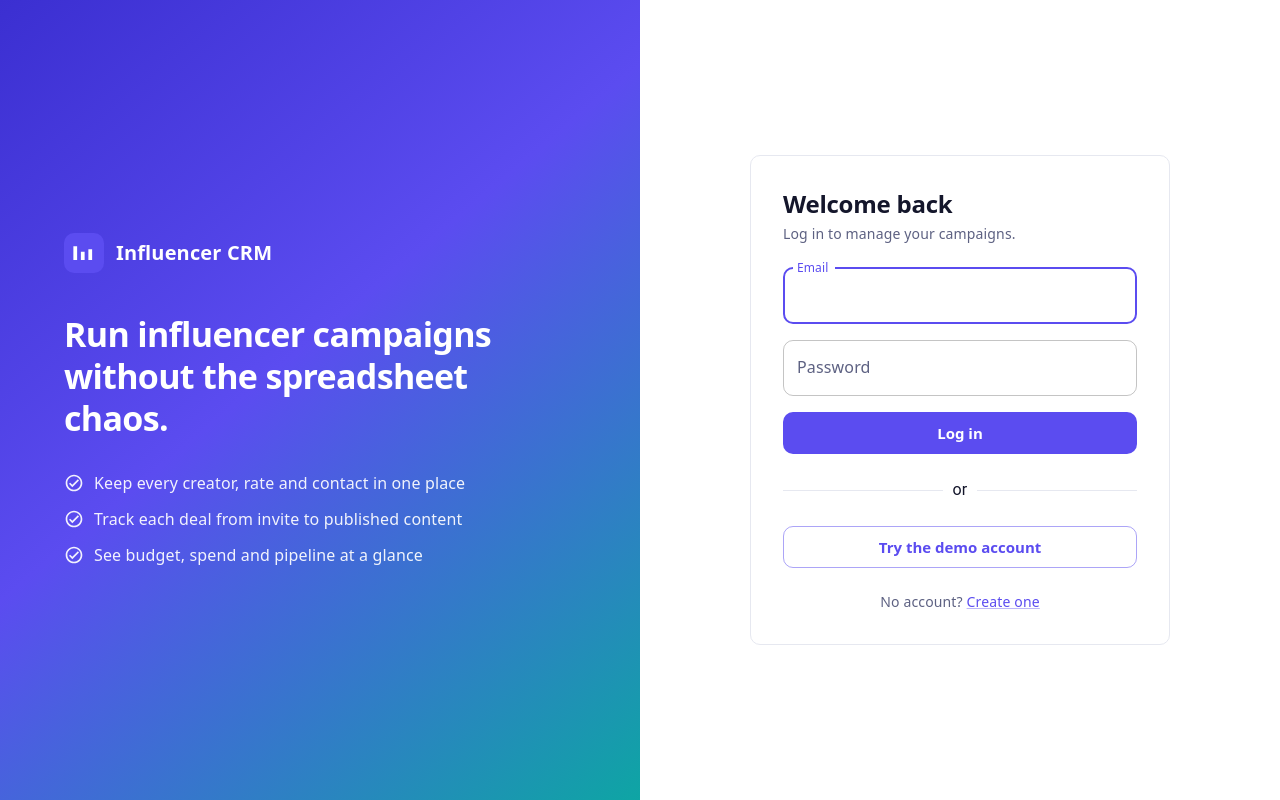
LoginPage › shows the server error message
Type "anna@test.dev" into the field labelled "Email". click: (960, 296)
box: [783, 268, 1137, 324]
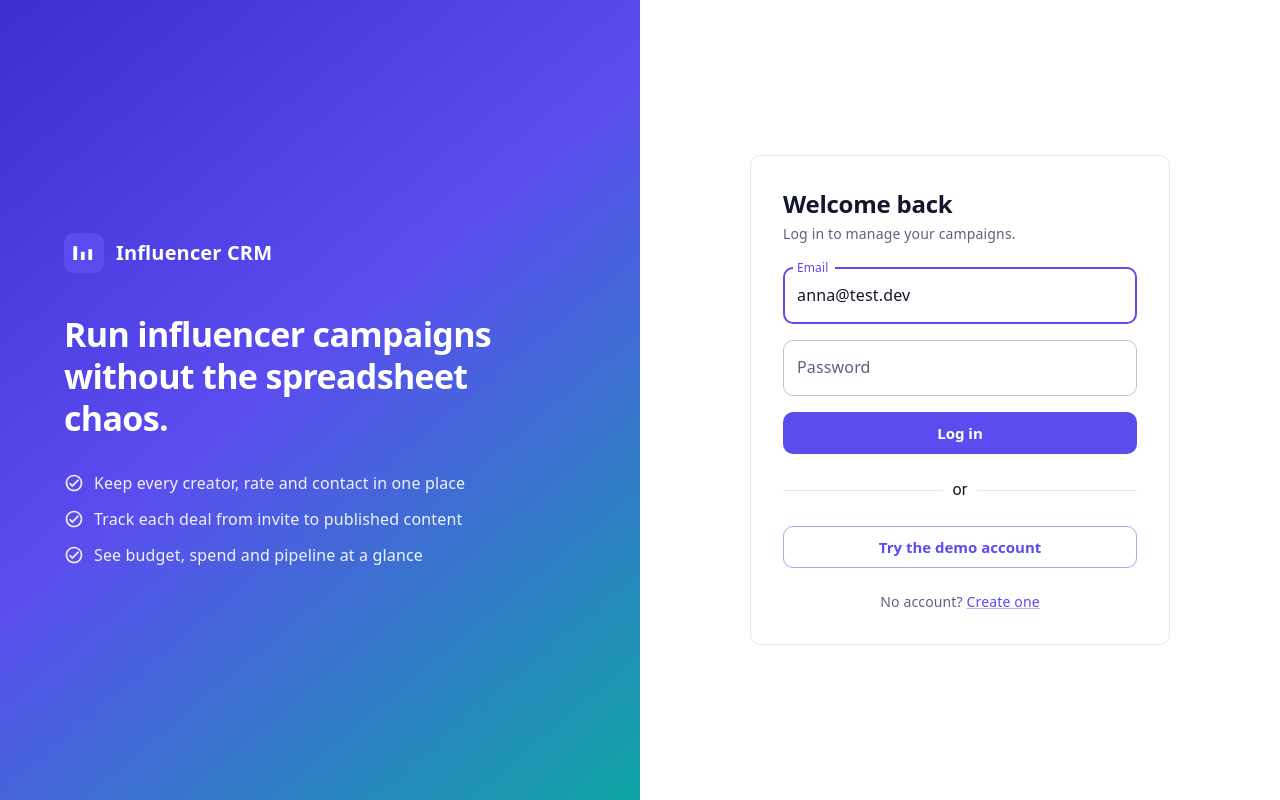
Type "wrong-password" into the password field labelled "Password". click: (960, 368)
box: [783, 340, 1137, 396]
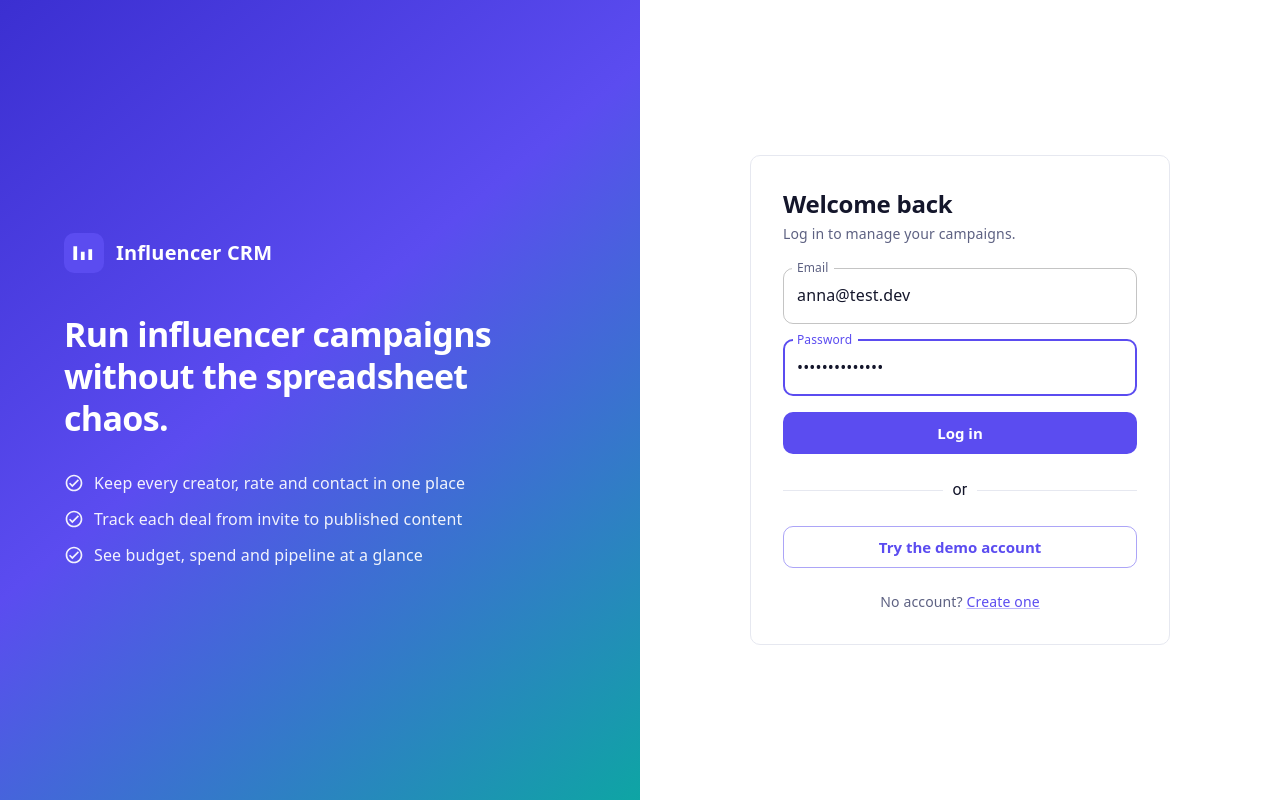
Click the button "Log in". click: (960, 433)
box: [783, 412, 1137, 454]
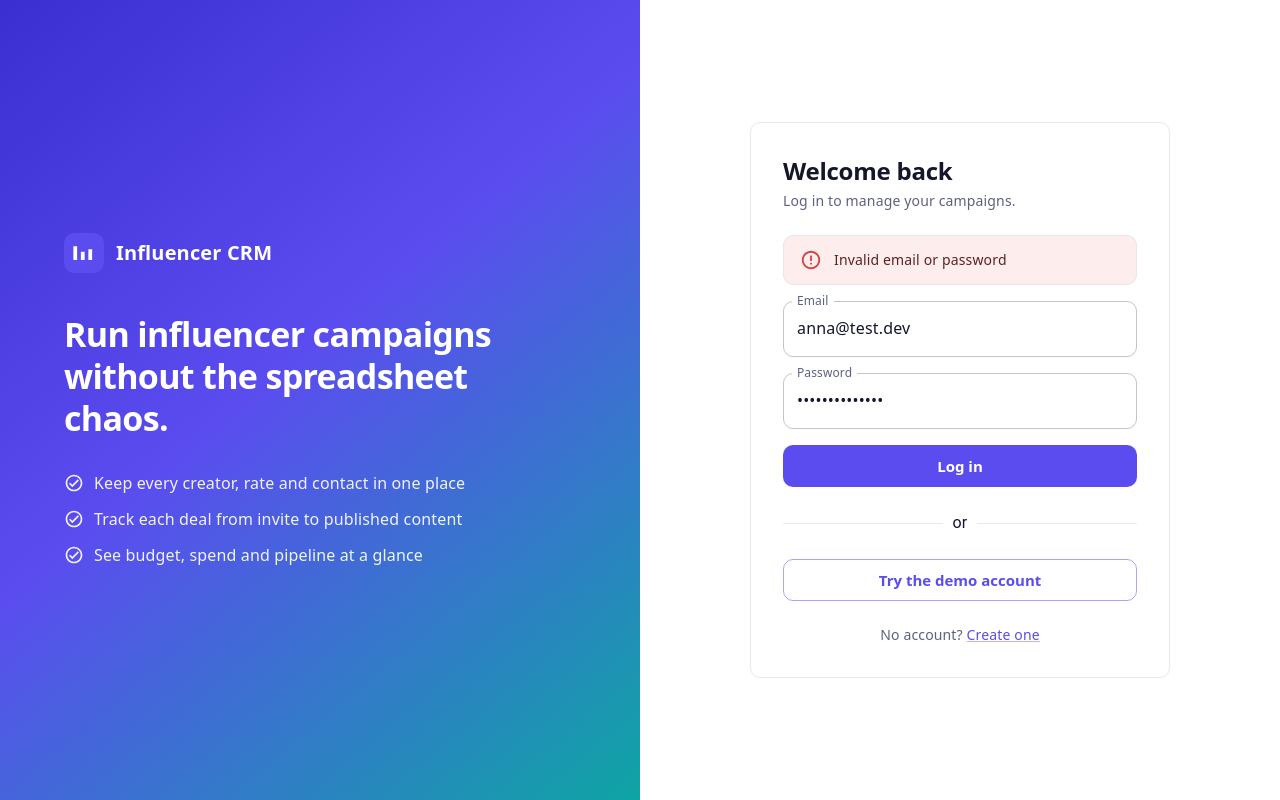
Result: the text "Invalid email or password" is shown at [834, 250, 1007, 269]
